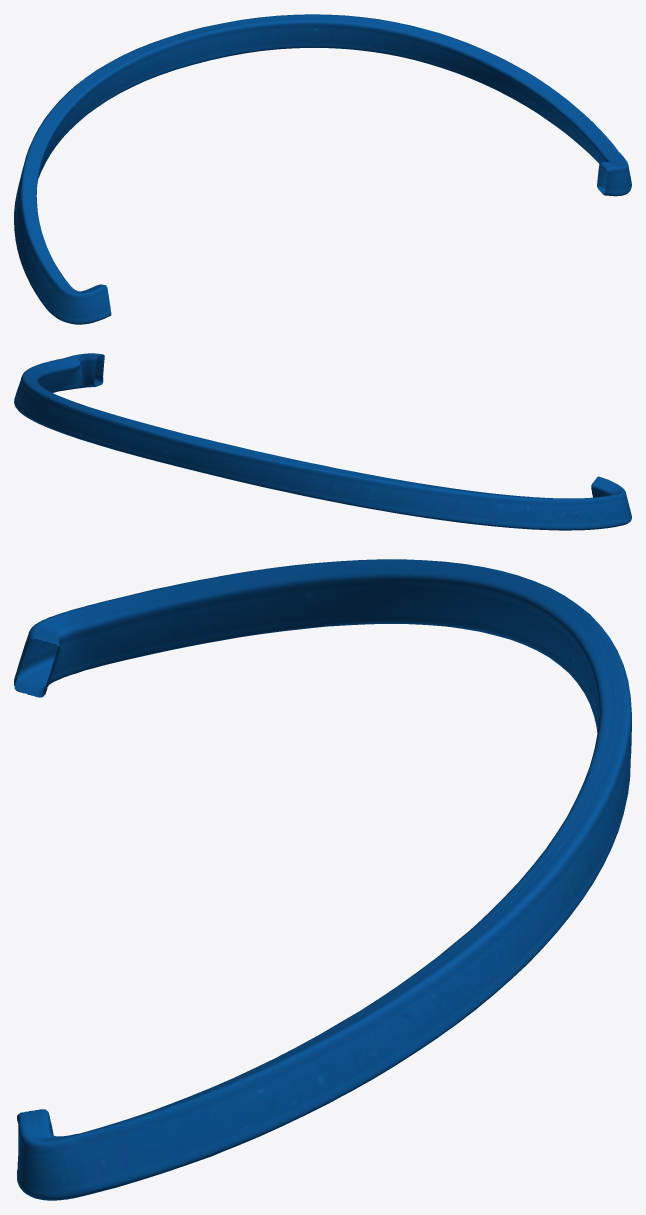
The model's file is band-orange.glb.
3 views of the same model, one above another, from view 1: azimuth 30°, elevation 25°; view 2: azimuth 150°, elevation 25°; view 3: azimuth 270°, elevation 25° (orthographic). The views are drawn at different scales.
Visible parts, largest first — view 1: Head Upper- Headphone Structure.001; view 2: Head Upper- Headphone Structure.001; view 3: Head Upper- Headphone Structure.001.
Part boxes in pixels (x1=…): Head Upper- Headphone Structure.001: x1=14, y1=14, x2=631, y2=324; Head Upper- Headphone Structure.001: x1=14, y1=353, x2=631, y2=530; Head Upper- Headphone Structure.001: x1=14, y1=559, x2=631, y2=1200.
Bounding box in the file's own units: 0.3161 × 0.0629 × 0.1513.
Materials: 1 (1 with a texture image).
